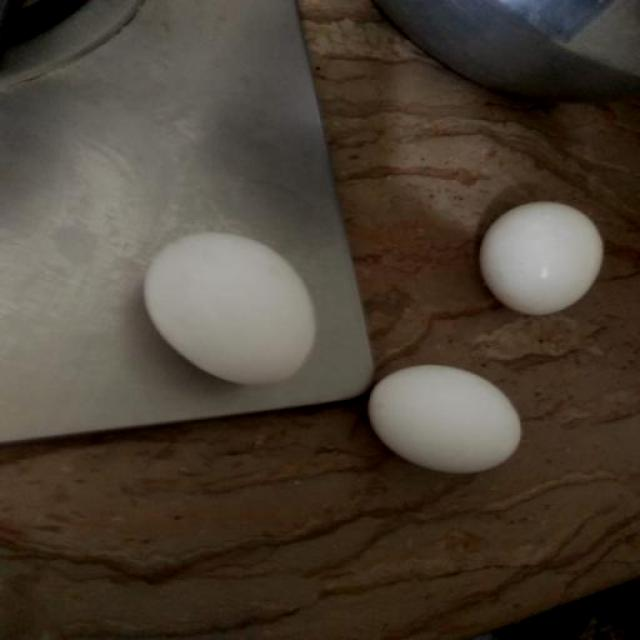telur: (148, 232, 319, 384), (368, 364, 520, 475), (479, 202, 604, 317)
